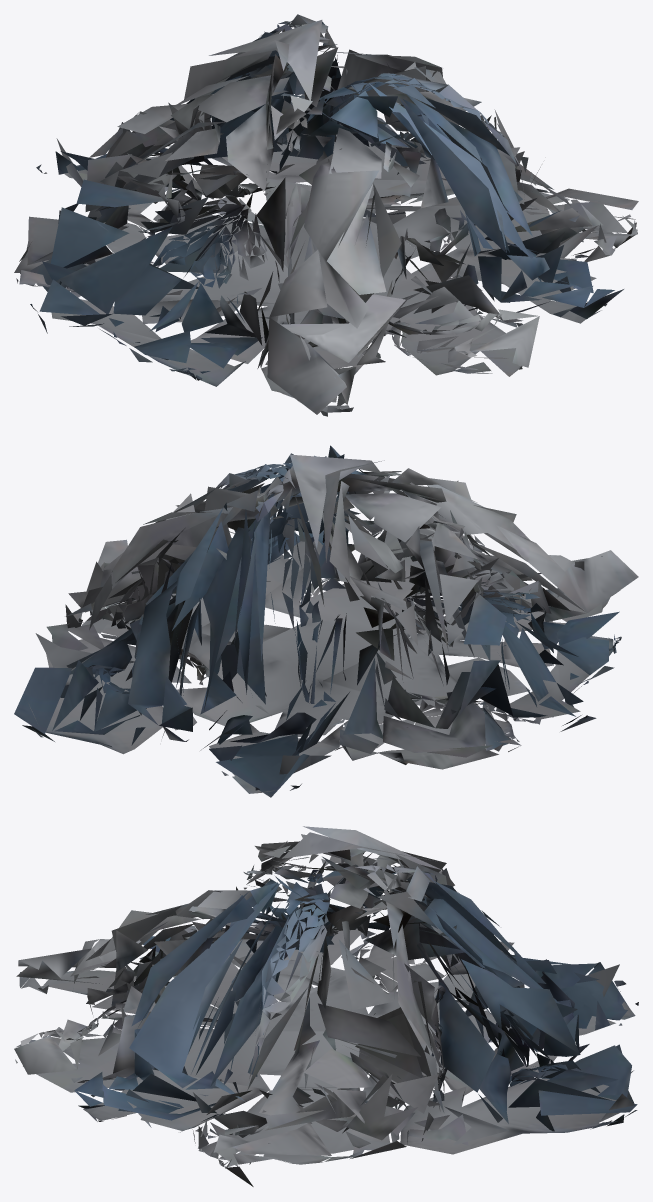
The model's file is laundry_lod2.glb.
3 views of the same model, one above another, from view 1: azimuth 30°, elevation 25°; view 2: azimuth 150°, elevation 25°; view 3: azimuth 270°, elevation 25° (orthographic). The views are drawn at different scales.
Parts seen in each view (by area): view 1: node_0; view 2: node_0; view 3: node_0.
Part boxes in pixels (x1,y1,x2,y2): node_0: [14, 14, 638, 416]; node_0: [14, 445, 638, 797]; node_0: [14, 826, 638, 1186].
Bounding box in the file's own units: 2.74 × 1.18 × 2.83.
Materials: 1 (1 with a texture image).
